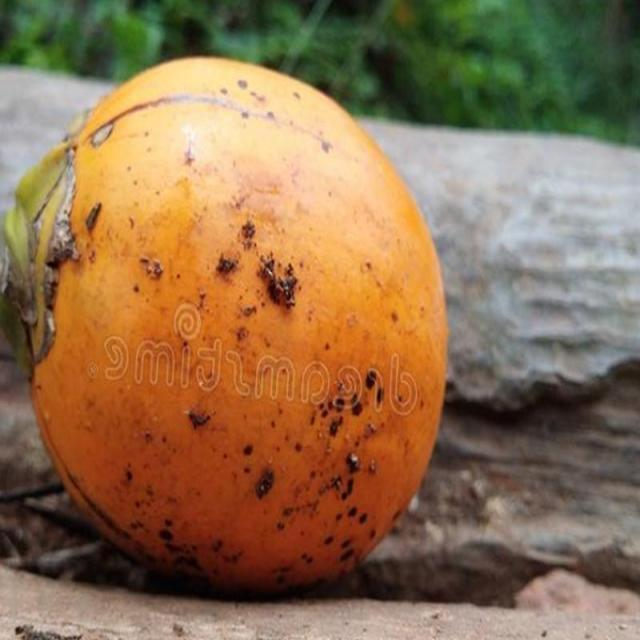good: (0, 58, 450, 602)
